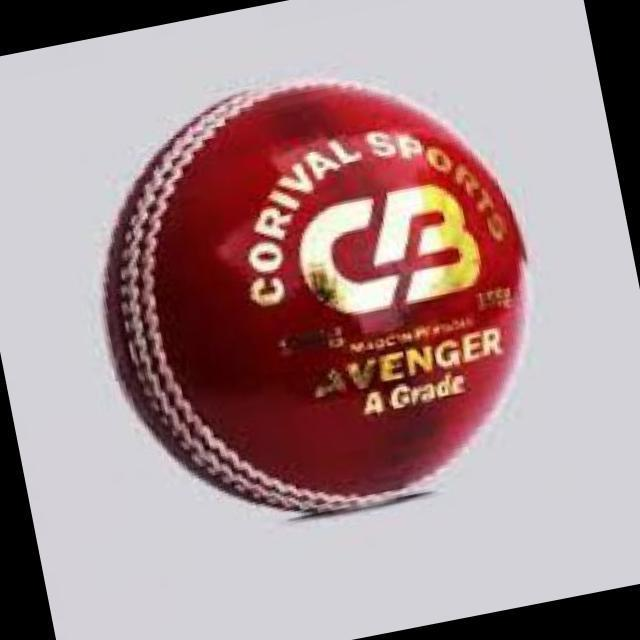-: (78, 43, 575, 542)
